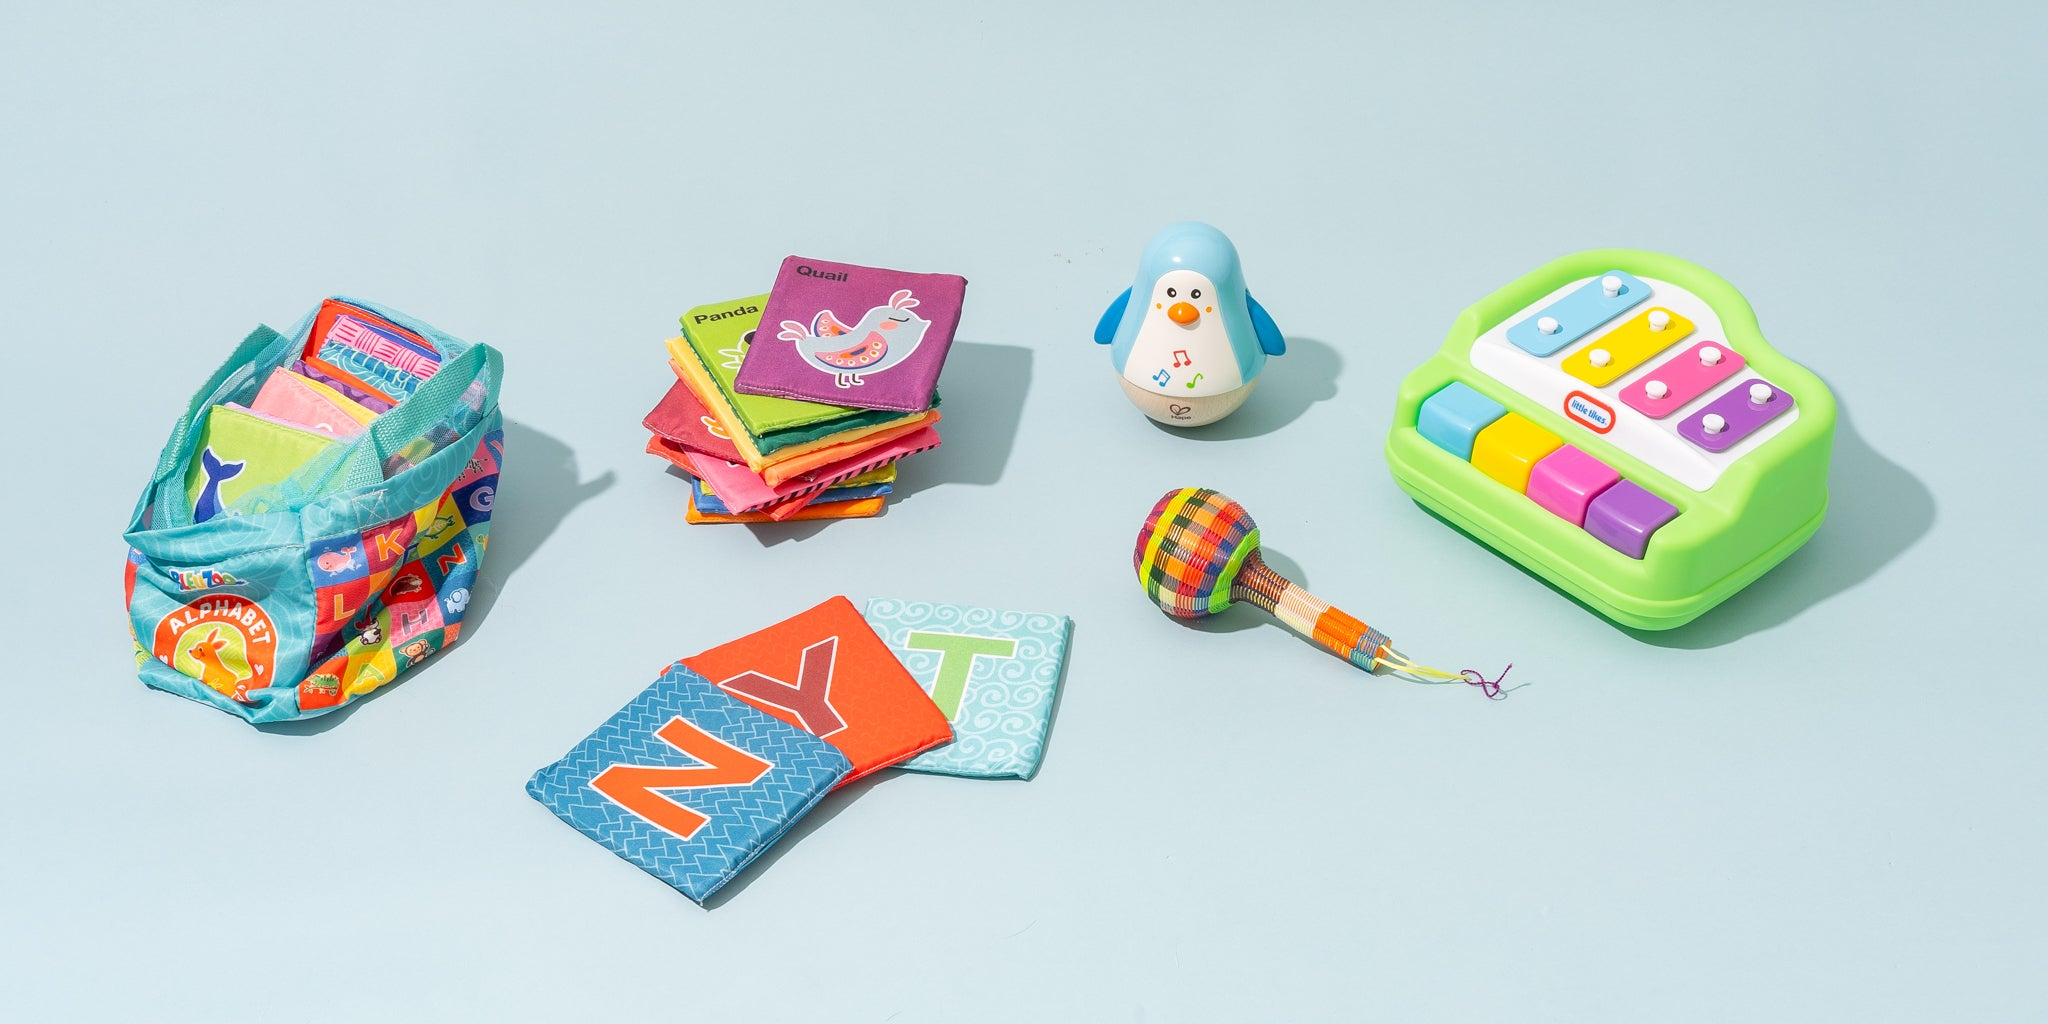toy: (108, 272, 524, 775)
